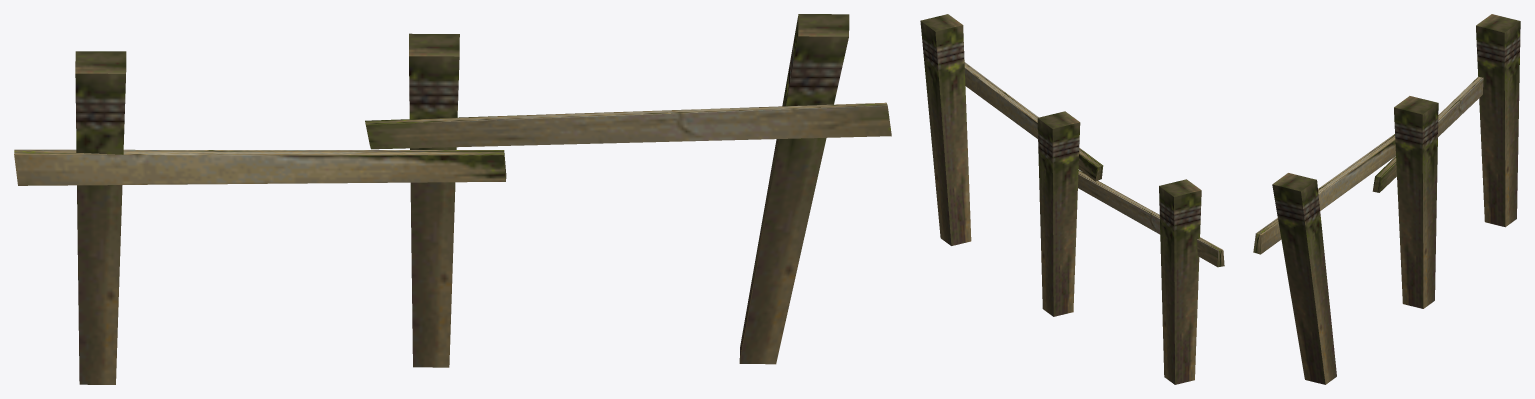
File: xsz_langan_1.FBX
The picture shows the model from 3 angles, left to right: view 1: azimuth 30°, elevation 25°; view 2: azimuth 150°, elevation 25°; view 3: azimuth 270°, elevation 25°; orthographic projection. The views are drawn at different scales.
Parts seen in each view (by area): view 1: xsz_langan_1; view 2: xsz_langan_1; view 3: xsz_langan_1.
Boxes of the visible parts, <box> form: xsz_langan_1: <box>14,14,891,384</box>; xsz_langan_1: <box>920,14,1224,384</box>; xsz_langan_1: <box>1253,14,1520,384</box>.
Size of the model in its own units: 322 by 152 by 175.
